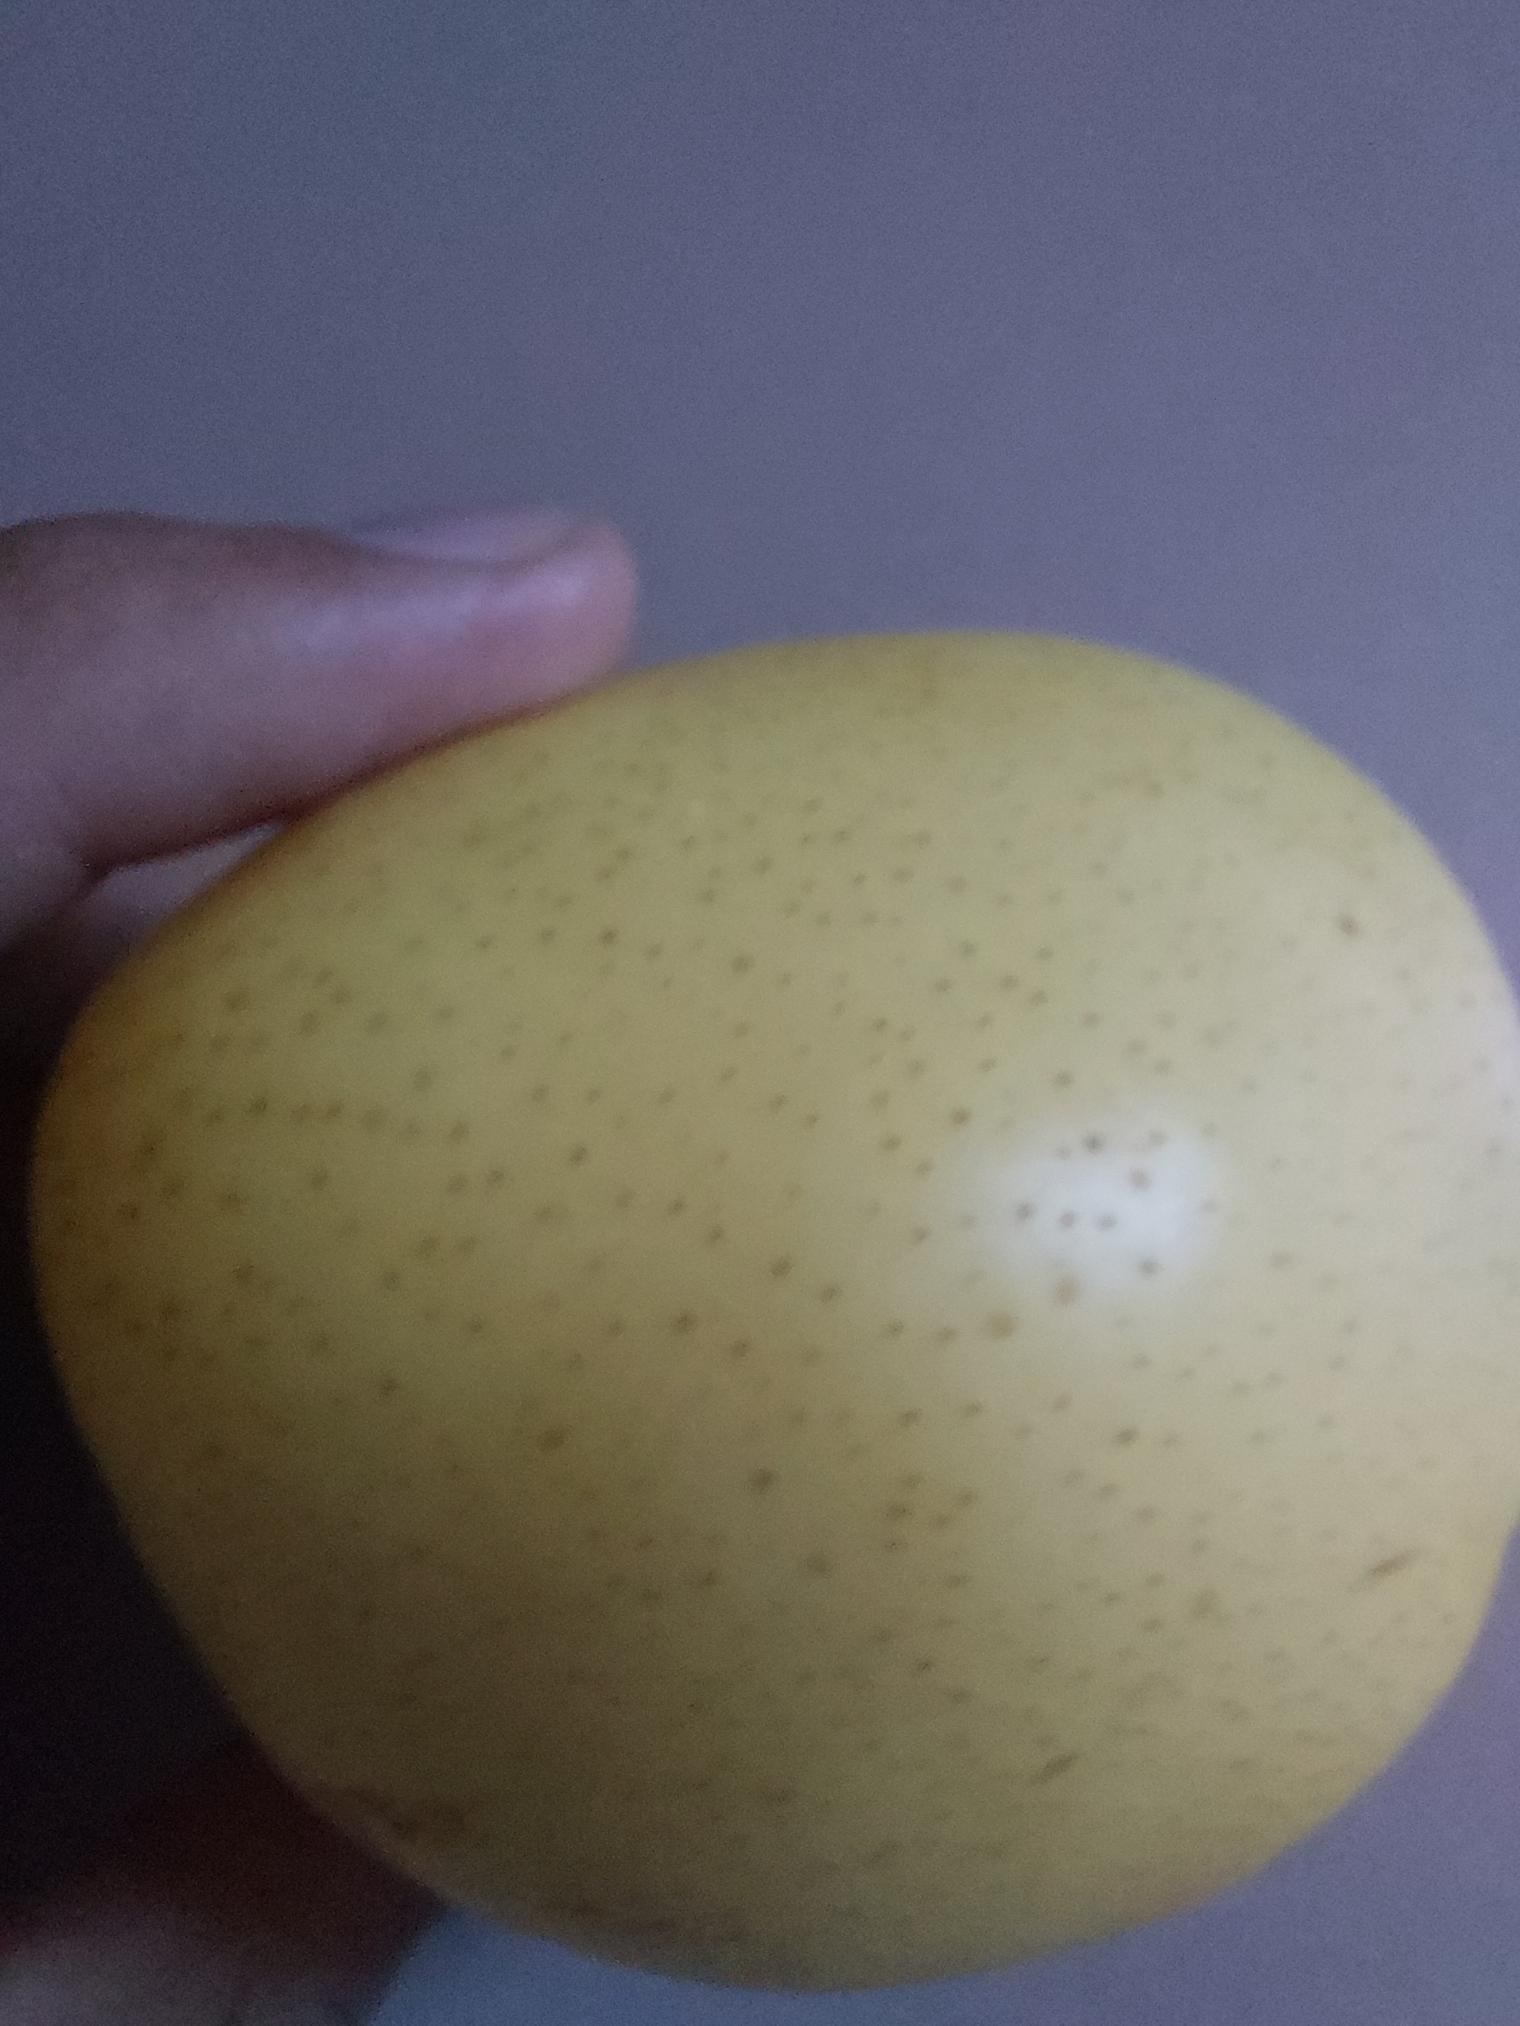Good Pear: (29, 619, 1520, 1994)
